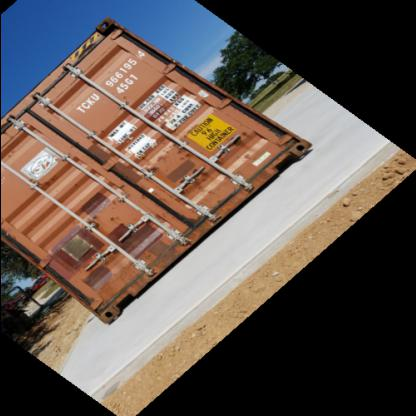Damage: (229, 119, 255, 170), (134, 239, 178, 269), (154, 141, 196, 171), (84, 198, 122, 230)
